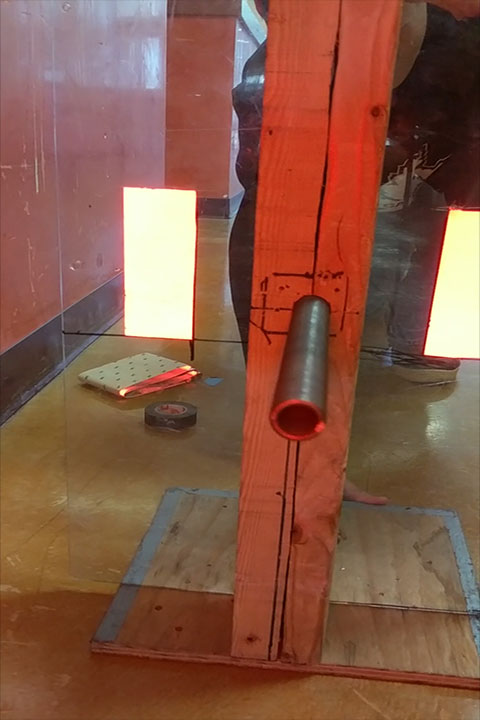gear: (121, 186, 196, 342), (421, 206, 480, 360)
